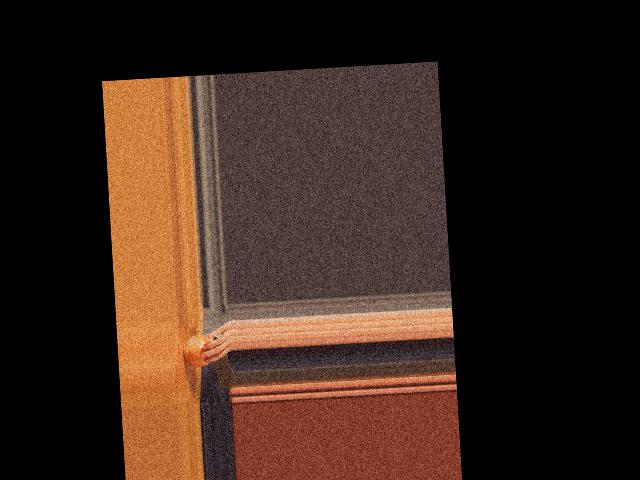onion: (182, 335, 214, 367)
